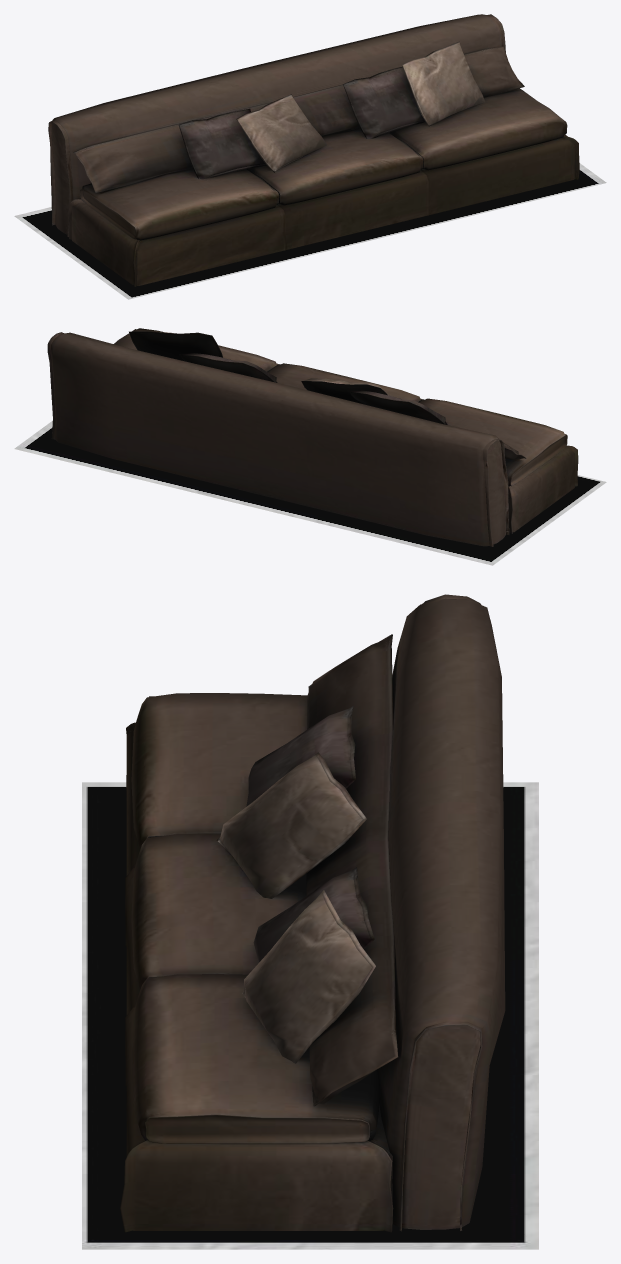
File: raw_model.obj
3 views of the same model, one above another, from view 1: azimuth 30°, elevation 25°; view 2: azimuth 150°, elevation 25°; view 3: azimuth 270°, elevation 25° (orthographic). The views are drawn at different scales.
Parts seen in each view (by area): view 1: HOUSSE_MONO, Shadow; view 2: HOUSSE_MONO, Shadow; view 3: HOUSSE_MONO, Shadow.
Boxes of the visible parts, x1,y1,x2,y2 form: HOUSSE_MONO: (48, 14, 579, 286); Shadow: (14, 163, 606, 299); HOUSSE_MONO: (47, 328, 578, 546); Shadow: (14, 421, 606, 565); HOUSSE_MONO: (120, 594, 505, 1232); Shadow: (82, 782, 538, 1249).
Bounding box in the file's own units: 336 × 73.93 × 139.
Materials: 1 (1 with a texture image).
